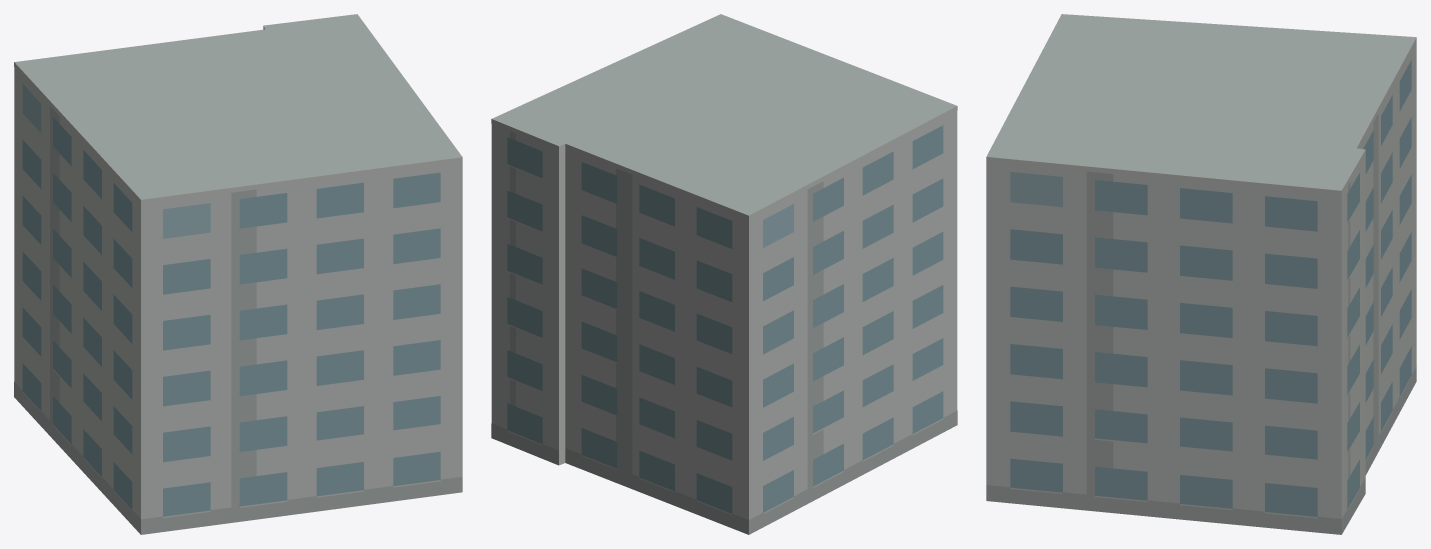
The model's file is survey-upis-32685402.glb.
3 renders of one model, left to right at view 1: azimuth 30°, elevation 25°; view 2: azimuth 150°, elevation 25°; view 3: azimuth 270°, elevation 25°, orthographic. The views are drawn at different scales.
Parts seen in each view (by area): view 1: survey-upis-32685402.tmp; view 2: survey-upis-32685402.tmp; view 3: survey-upis-32685402.tmp.
Part boxes in pixels (bbox=[...]): survey-upis-32685402.tmp: bbox=[14, 14, 462, 534]; survey-upis-32685402.tmp: bbox=[491, 14, 957, 534]; survey-upis-32685402.tmp: bbox=[986, 14, 1416, 534].
Size of the model in its own units: 18.27 by 16.57 by 18.79.
